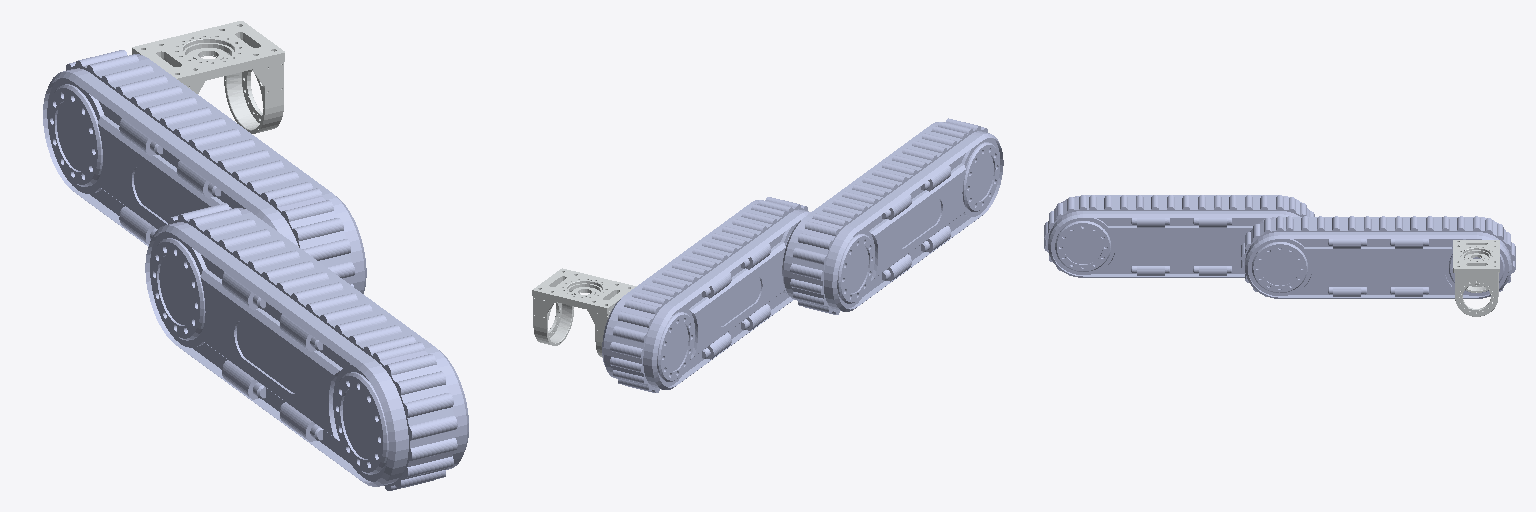
URDF robot description (ld):
<?xml version="1.0" encoding="utf-8"?>
<!-- This URDF was automatically created by SolidWorks to URDF Exporter! Originally created by [author] ([email redacted]) 
     Commit Version: 1.5.1-0-g916b5db  Build Version: 1.5.7152.31018
     For more information, please see http://wiki.ros.org/sw_urdf_exporter -->
<robot
  name="ld">
  <link
    name="yao_link">
    <inertial>
      <origin
        xyz="-4.70664810752609E-17 1.0045419797252E-16 0.0619650186541176"
        rpy="0 0 0" />
      <mass
        value="1.2829439668615" />
      <inertia
        ixx="0.00751845949038677"
        ixy="-3.16997985832778E-09"
        ixz="-4.63089857794973E-18"
        iyy="0.0145758761435926"
        iyz="-5.1241050200337E-19"
        izz="0.0143225671493637" />
    </inertial>
    <visual>
      <origin
        xyz="0 0 0"
        rpy="0 0 0" />
      <geometry>
        <mesh
          filename="package://ld/meshes/yao_link.STL" />
      </geometry>
      <material
        name="">
        <color
          rgba="0.898039215686275 0.913725490196078 0.925490196078431 1" />
      </material>
    </visual>
    <collision>
      <origin
        xyz="0 0 0"
        rpy="0 0 0" />
      <geometry>
        <mesh
          filename="package://ld/meshes/yao_link.STL" />
      </geometry>
    </collision>
  </link>
  <link
    name="leftleg_link1">
    <inertial>
      <origin
        xyz="0.000306585056913111 -0.35 6.93889390390723E-17"
        rpy="0 0 0" />
      <mass
        value="39.7184469707484" />
      <inertia
        ixx="2.94087900879581"
        ixy="8.35081401726244E-17"
        ixz="1.19343525101845E-17"
        iyy="0.300956836519244"
        iyz="0.000713821936820183"
        izz="2.82439672812221" />
    </inertial>
    <visual>
      <origin
        xyz="0 0 0"
        rpy="0 0 0" />
      <geometry>
        <mesh
          filename="package://ld/meshes/leftleg_link1.obj" />
      </geometry>
      <material
        name="">
        <color
          rgba="0.792156862745098 0.819607843137255 0.933333333333333 1" />
      </material>
    </visual>
    <collision>
      <origin
        xyz="0 0 0"
        rpy="0 0 0" />
      <geometry>
        <mesh
          filename="package://ld/meshes/leftleg_link1.STL" />
      </geometry>
    </collision>
  </link>
  <joint
    name="leftleg_joint1"
    type="revolute">
    <origin
      xyz="-0.21088 0 0"
      rpy="0 0 0" />
    <parent
      link="yao_link" />
    <child
      link="leftleg_link1" />
    <axis
      xyz="1 0 0" />
    <limit
      lower="-1.57"
      upper="1.57"
      effort="0"
      velocity="0" />
  </joint>
  <link
    name="leftleg_link2">
    <inertial>
      <origin
        xyz="0.000306585056913167 -0.35 -5.55111512312578E-17"
        rpy="0 0 0" />
      <mass
        value="39.7184469707484" />
      <inertia
        ixx="2.94087900879582"
        ixy="-7.02932166348829E-17"
        ixz="-8.08788151447156E-18"
        iyy="0.300956836519244"
        iyz="0.000713821936820406"
        izz="2.82439672812221" />
    </inertial>
    <visual>
      <origin
        xyz="0 0 0"
        rpy="0 0 0" />
      <geometry>
        <mesh
          filename="package://ld/meshes/leftleg_link1.obj" />
      </geometry>
      <material
        name="">
        <color
          rgba="0.792156862745098 0.819607843137255 0.933333333333333 1" />
      </material>
    </visual>
    <collision>
      <origin
        xyz="0 0 0"
        rpy="0 0 0" />
      <geometry>
        <mesh
          filename="package://ld/meshes/leftleg_link2.STL" />
      </geometry>
    </collision>
  </link>
  <joint
    name="leftleg_joint2"
    type="revolute">
    <origin
      xyz="-0.17775 -0.7 0"
      rpy="0 0 0" />
    <parent
      link="leftleg_link1" />
    <child
      link="leftleg_link2" />
    <axis
      xyz="1 0 0" />
    <limit
      lower="-1.57"
      upper="1.57"
      effort="0"
      velocity="0" />
  </joint>
</robot>

--- What the picture shows (computed from the rendered views, not written in the file) ---
The picture shows the robot from 3 angles, left to right: view 1: azimuth 30°, elevation 25°; view 2: azimuth 150°, elevation 25°; view 3: azimuth 270°, elevation 25°; orthographic projection.
Model ld with 3 links and 2 joints (2 revolute), rooted at yao_link, posed every joint at zero.
Links seen in each view (by area): view 1: leftleg_link2, leftleg_link1, yao_link; view 2: leftleg_link2, leftleg_link1, yao_link; view 3: leftleg_link1, leftleg_link2, yao_link.
Link boxes in pixels (x1,y1,x2,y2): leftleg_link2: [145, 203, 468, 490]; leftleg_link1: [43, 50, 366, 293]; yao_link: [132, 21, 284, 133]; leftleg_link2: [782, 118, 1003, 314]; leftleg_link1: [602, 197, 810, 392]; yao_link: [532, 268, 636, 357]; leftleg_link1: [1241, 216, 1515, 298]; leftleg_link2: [1044, 195, 1314, 277]; yao_link: [1453, 240, 1499, 316].
Size in the robot's own frame: 0.6064 by 1.68 by 0.28 metres.
Meshes: 2 distinct files referenced, 3 mesh visuals loaded (1 binary STL, 1 OBJ).
